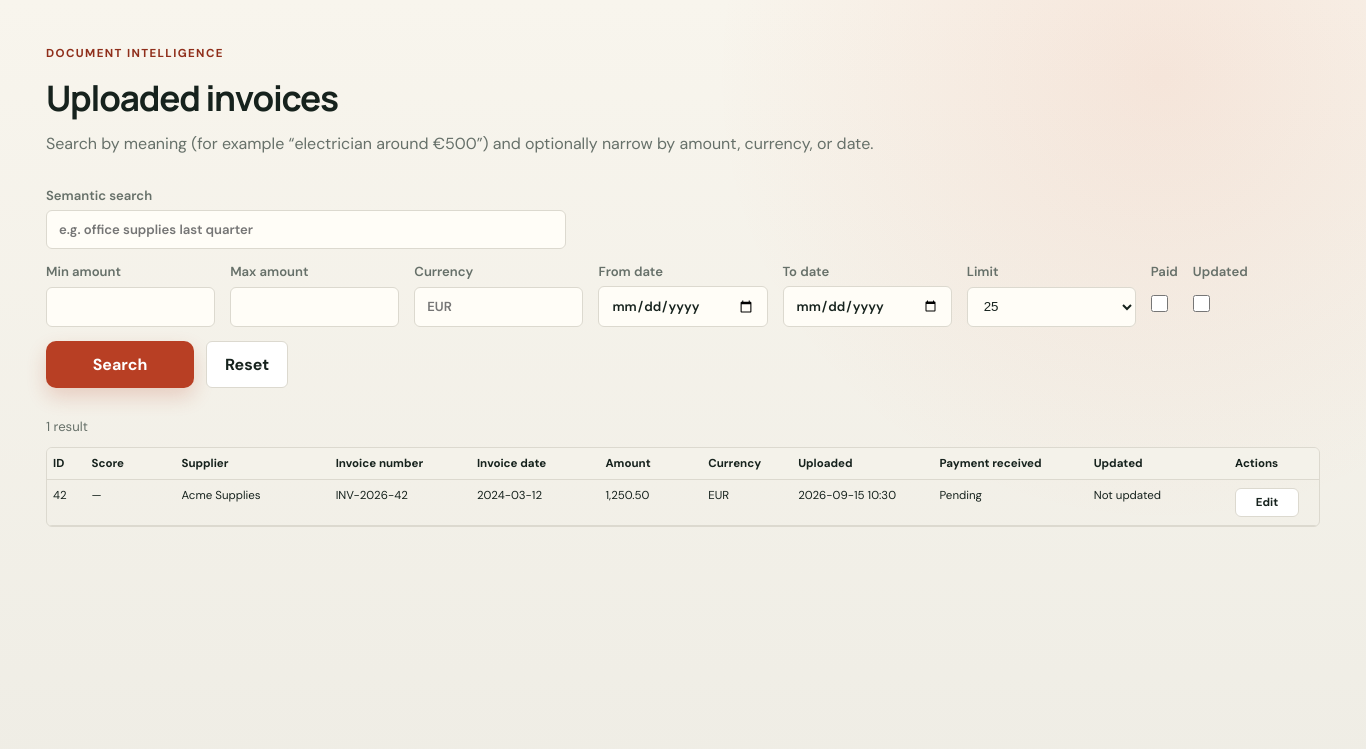
InvoiceList › loads invoices via search with default limit when active
This screenshot has width=1366, height=749.
Expected: the heading "Uploaded invoices" is shown, [46,73,338,122]
Step 1. Click the button "Edit" → (1267, 502), box [1235,488,1299,517]
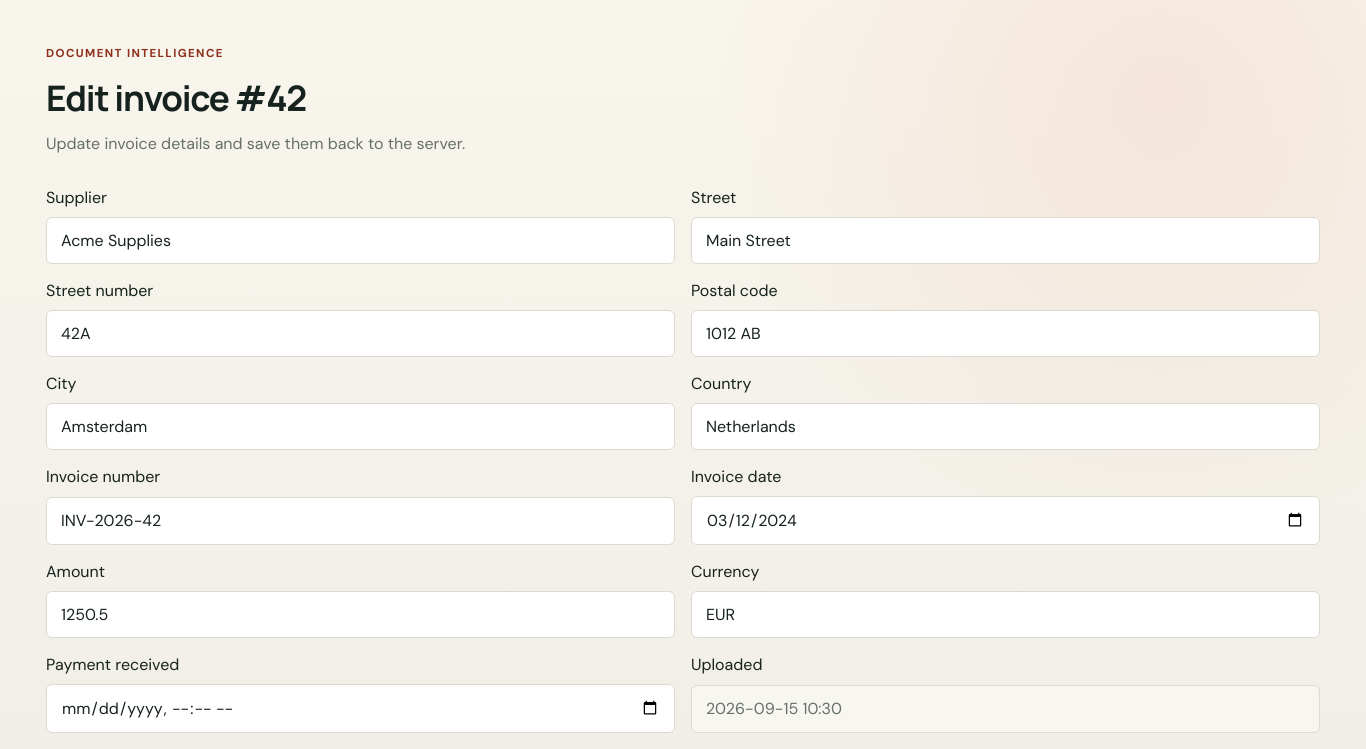
Step 2. Replace the text in the field labelled "City" with "Rotterdam" → (360, 426), box [46,403,675,450]
(page scrolled)
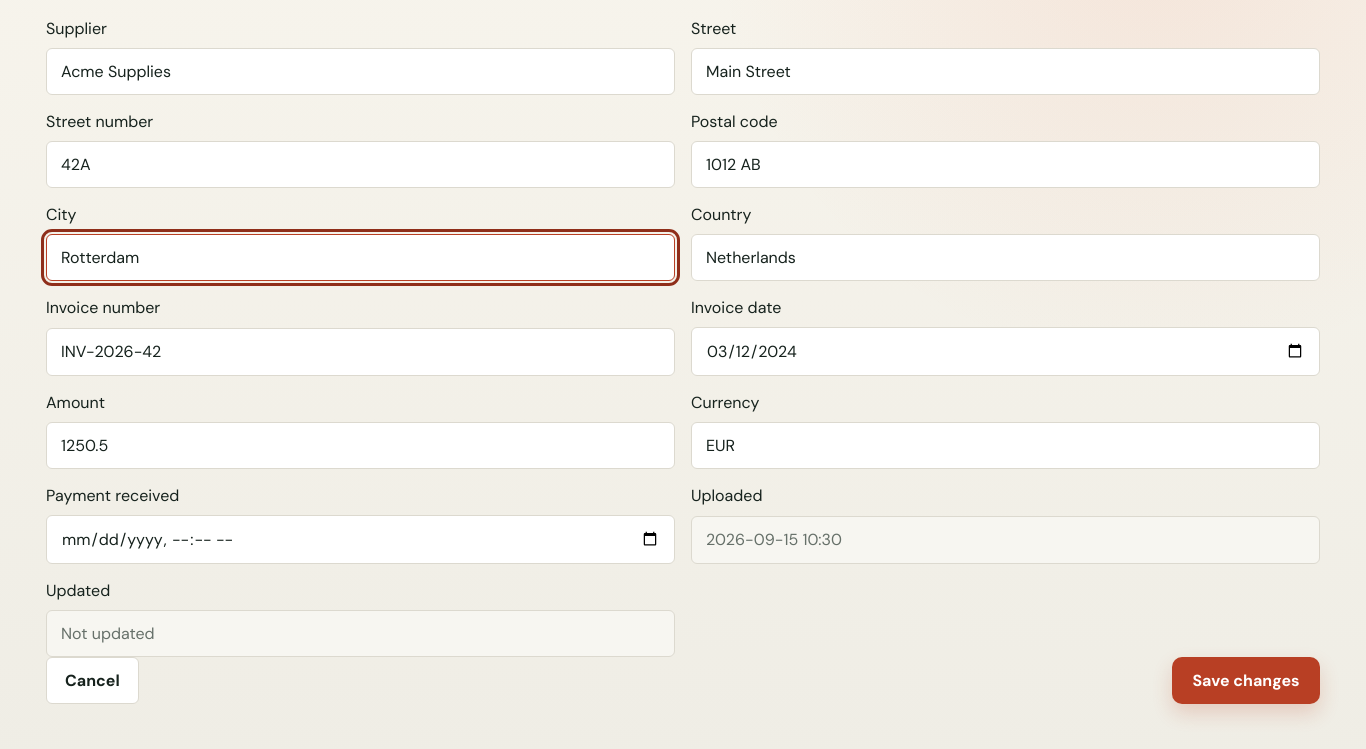
Step 3. Click the button "Save changes" → (1246, 680), box [1172,657,1320,704]
(page scrolled)
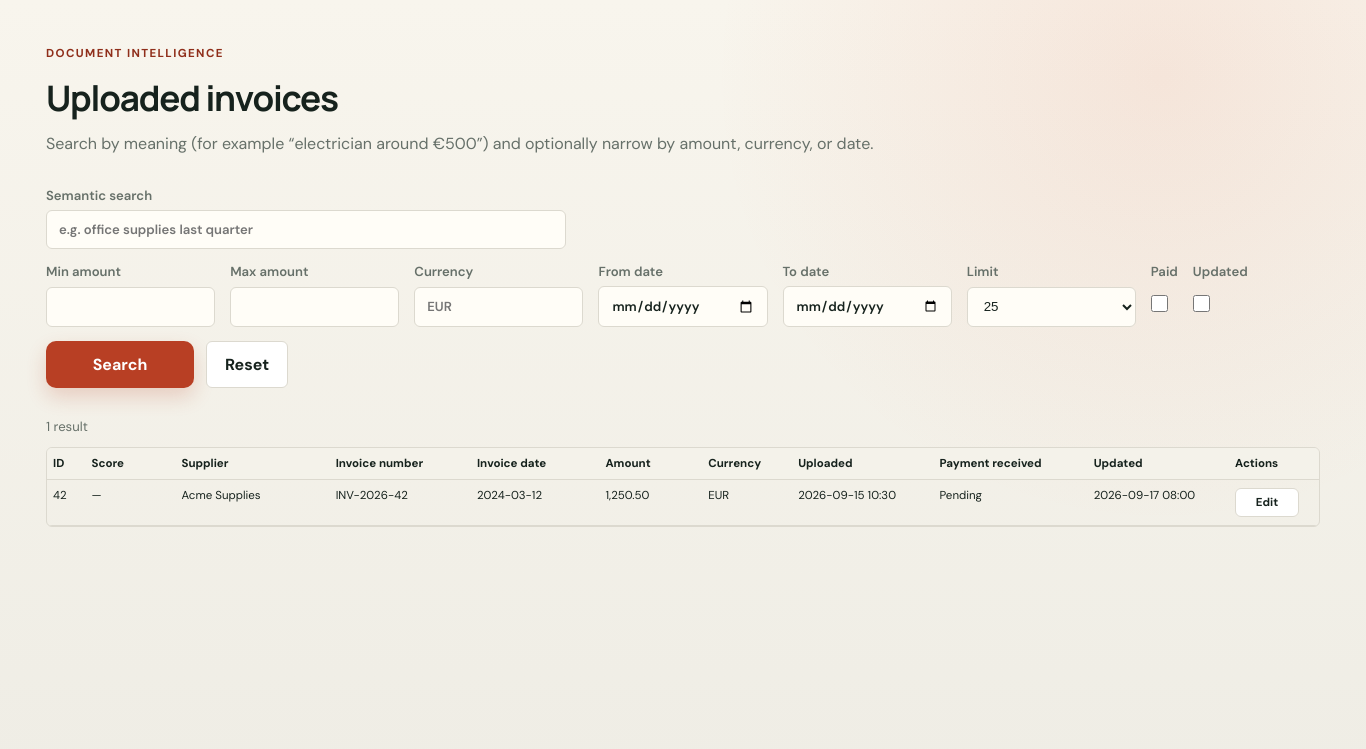
Expected: the heading "Uploaded invoices" is shown, [46,73,338,122]
Expected: the text "1,250.50" is shown, [600,479,702,525]
Expected: the text "2026-09-17 08:00" is shown, [1088,479,1229,525]
